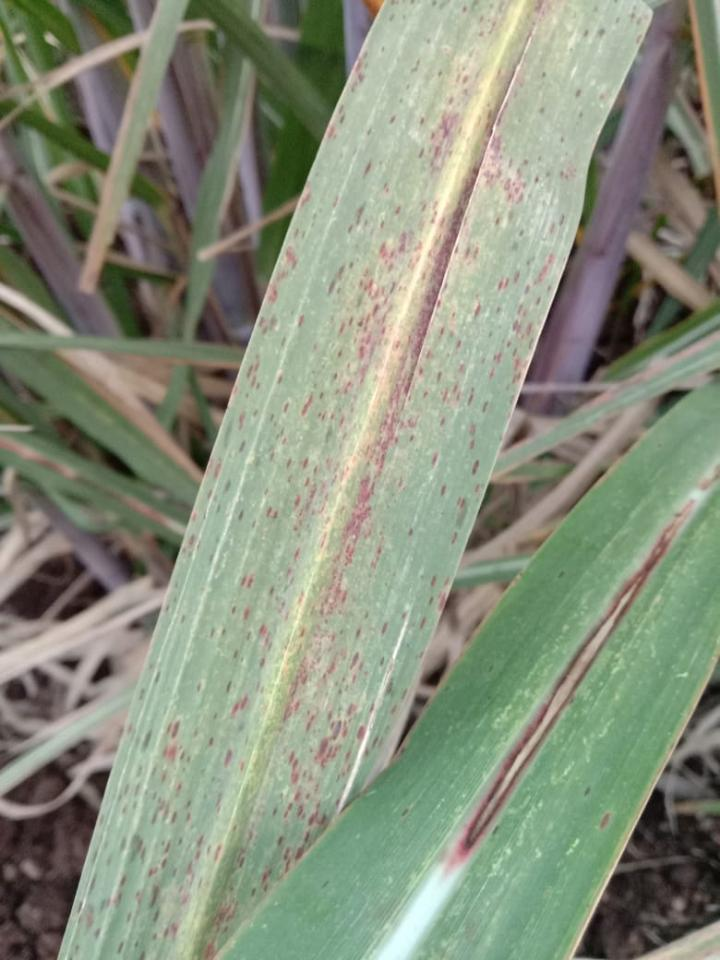RedRot: (452, 495, 696, 855), (695, 459, 719, 501)
Rust: (54, 0, 651, 959), (324, 34, 389, 145), (587, 795, 629, 840), (134, 651, 165, 705), (161, 575, 191, 630), (579, 775, 595, 800), (192, 675, 205, 695)
